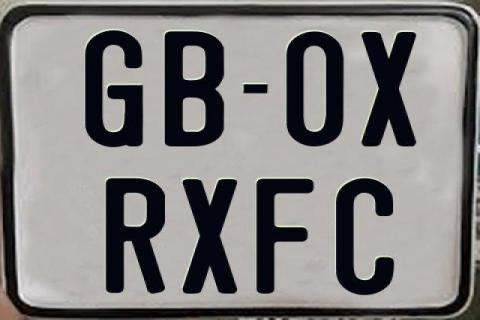0: (283, 29, 341, 148)
B: (164, 30, 228, 148)
C: (334, 176, 393, 296)
F: (256, 177, 320, 295)
G: (85, 30, 144, 148)
R: (104, 178, 164, 298)
X: (358, 31, 414, 149), (179, 177, 234, 295)
